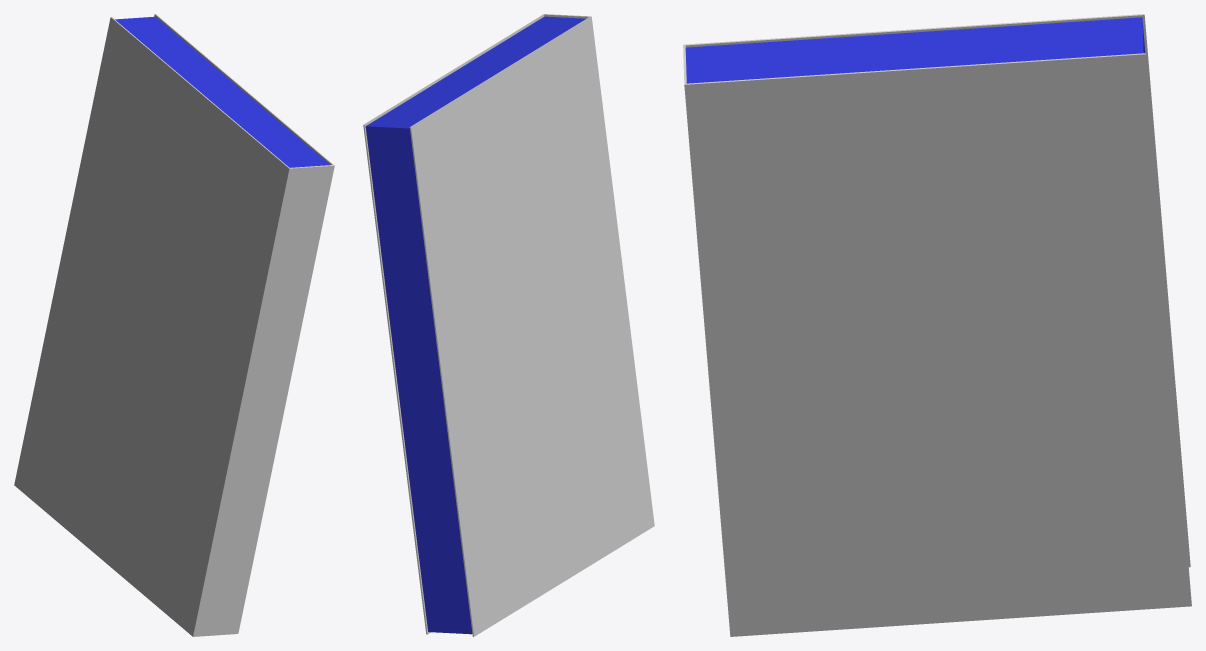
The model's file is Book4.gltf.
3 renders of one model, left to right at view 1: azimuth 30°, elevation 25°; view 2: azimuth 150°, elevation 25°; view 3: azimuth 270°, elevation 25°, orthographic. The views are drawn at different scales.
Visible parts, largest first — view 1: Book4; view 2: Book4; view 3: Book4.
Part boxes in pixels (box(x1,y1,x2,y2)): Book4: box(14, 14, 334, 636); Book4: box(363, 14, 654, 636); Book4: box(683, 14, 1191, 636).
Size of the model in its own units: 0.1608 by 0.5991 by 0.4299.
